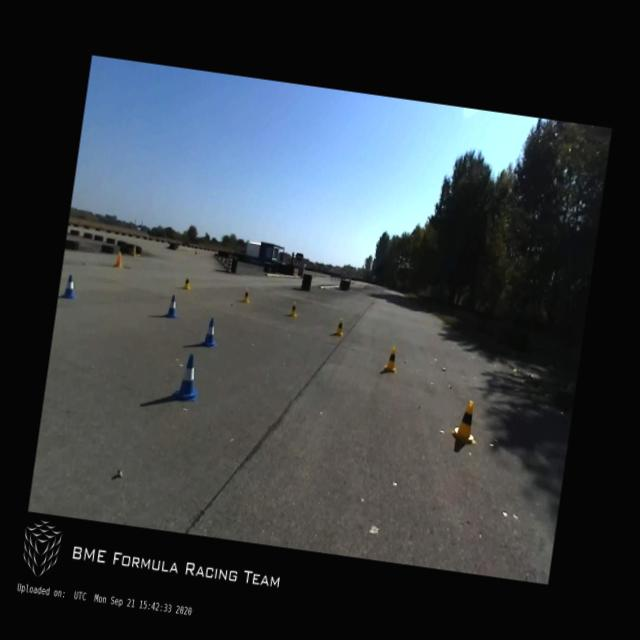blue_cone: (174, 352, 204, 402), (201, 317, 218, 348), (61, 274, 77, 300), (166, 295, 179, 319)
yellow_cone: (451, 399, 482, 445), (384, 346, 398, 374), (334, 319, 344, 337), (289, 302, 298, 317), (183, 277, 191, 290), (242, 290, 250, 302)
